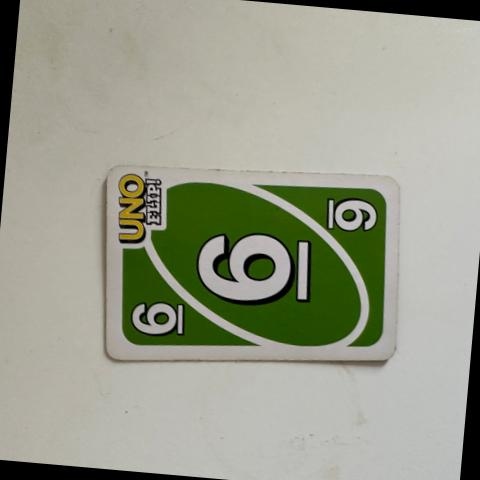lgreen-6: (114, 282, 201, 354)
